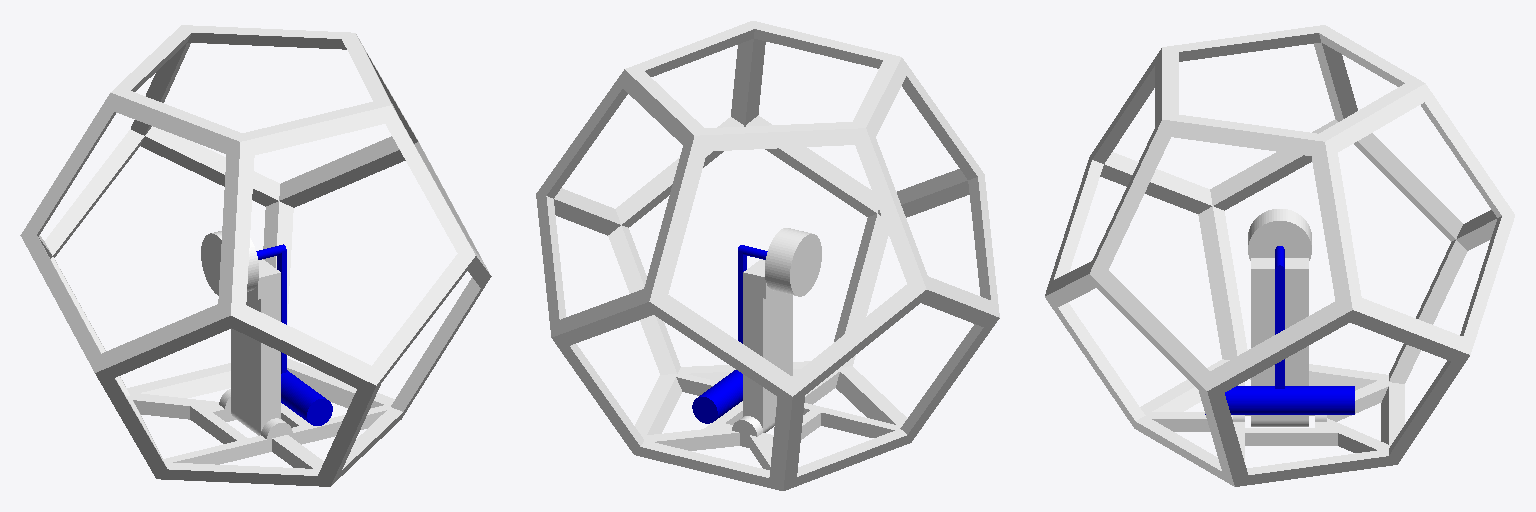
robot.urdf — test:
<?xml version="1.0" ?>
<robot name="test">
  <link name="root_1">
    <visual name="root_1_visual">
      <origin xyz="0 0 0" rpy="0 0 0"/>
      <geometry>
        <mesh filename="meshes/root_1.stl"/>
      </geometry>
      <material name="root_1-material">
        <color rgba="1 1 1 1"/>
      </material>
    </visual>
    <collision name="root_1_collision">
      <origin xyz="0 0 0" rpy="0 0 0"/>
      <geometry>
        <mesh filename="meshes/root_1.stl"/>
      </geometry>
    </collision>
    <inertial>
      <mass value="0.14070459"/>
      <inertia ixx="0.00053886708" iyy="0.00053657154" izz="0.00048673883" ixy="0" ixz="0" iyz="2.5574782e-07"/>
      <origin xyz="0 0 0" rpy="0 0 0"/>
    </inertial>
  </link>
  <link name="mount_1">
    <visual name="mount_1_visual">
      <origin xyz="0 0 0" rpy="0 0 0"/>
      <geometry>
        <mesh filename="meshes/mount_1.stl"/>
      </geometry>
      <material name="mount_1-material">
        <color rgba="1 1 1 1"/>
      </material>
    </visual>
    <collision name="mount_1_collision">
      <origin xyz="0 0 0" rpy="0 0 0"/>
      <geometry>
        <mesh filename="meshes/mount_1.stl"/>
      </geometry>
    </collision>
    <inertial>
      <mass value="0.037144641"/>
      <inertia ixx="1.7960371e-05" iyy="2.1752436e-06" izz="1.7723066e-05" ixy="2.485767e-06" ixz="0" iyz="0"/>
      <origin xyz="-0.002836331 0.036726416 -0.01" rpy="0 0 0"/>
    </inertial>
  </link>
  <link name="hammer_1">
    <visual name="hammer_1_visual">
      <origin xyz="0 0 0" rpy="0 0 0"/>
      <geometry>
        <mesh filename="meshes/hammer_1.stl"/>
      </geometry>
      <material name="hammer_1-material">
        <color rgba="0 0 1 1"/>
      </material>
    </visual>
    <collision name="hammer_1_collision">
      <origin xyz="0 0 0" rpy="0 0 0"/>
      <geometry>
        <mesh filename="meshes/hammer_1.stl"/>
      </geometry>
    </collision>
    <inertial>
      <mass value="0.012062541"/>
      <inertia ixx="1.57236e-06" iyy="2.4984784e-06" izz="3.885809e-06" ixy="0" ixz="0" iyz="1.1308963e-07"/>
      <origin xyz="-2.7604304e-20 0.046887655 -0.014800048" rpy="0 0 0"/>
    </inertial>
  </link>
  <joint name="Revolute_2" type="revolute">
    <origin xyz="2.3153962e-16 -0.010032667 -0.053219852" rpy="1.5707963 0 -9.9920072e-16"/>
    <parent link="root_1"/>
    <child link="mount_1"/>
    <axis xyz="0 0 -1"/>
    <limit effort="1" velocity="1" lower="-6.2831853" upper="6.2831853"/>
  </joint>
  <joint name="Revolute_1" type="revolute">
    <origin xyz="-0.005 0.06045085 -0.01" rpy="-3.1415927 1.5707963 0"/>
    <parent link="mount_1"/>
    <child link="hammer_1"/>
    <axis xyz="0 0 -1"/>
    <limit effort="1" velocity="1" lower="-6.2831853" upper="6.2831853"/>
  </joint>
</robot>

--- Facts derived from the render (not from the file) ---
3 views of the same robot in one strip: view 1: azimuth 30°, elevation 25°; view 2: azimuth 150°, elevation 25°; view 3: azimuth 270°, elevation 25° (orthographic).
Robot: test — 3 links, 2 joints (2 revolute); root link root_1; default pose: every joint at zero.
Visible links, largest first — view 1: root_1, mount_1, hammer_1; view 2: root_1, mount_1, hammer_1; view 3: root_1, mount_1, hammer_1.
Boxes of the visible links, x1,y1,x2,y2 form: root_1: (20,25,491,486); mount_1: (201,231,280,435); hammer_1: (256,244,332,425); root_1: (536,21,999,490); mount_1: (743,228,821,432); hammer_1: (692,245,767,423); root_1: (1045,25,1514,486); mount_1: (1248,209,1311,426); hammer_1: (1205,246,1354,414).
Bounding box of the posed robot: 0.1539 × 0.1618 × 0.1309 m (x, y, z).
Meshes: 3 distinct files referenced, 3 mesh visuals loaded (3 binary STL).